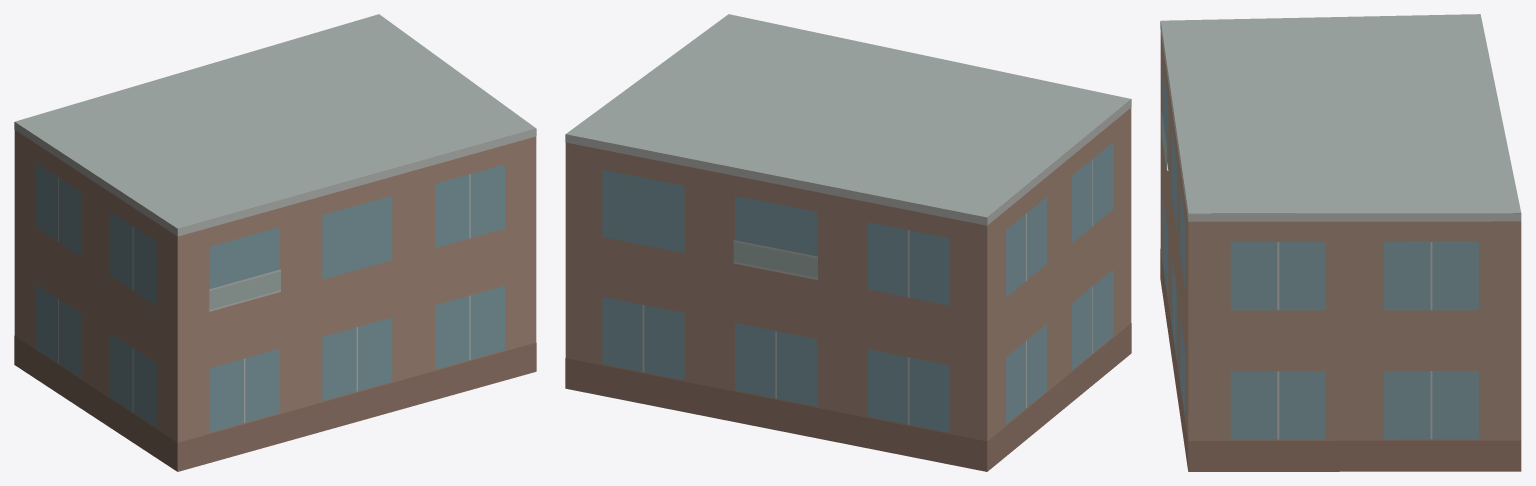
Rendered from survey-upis-33038335.glb.
The picture shows the model from 3 angles, left to right: view 1: azimuth 30°, elevation 25°; view 2: azimuth 150°, elevation 25°; view 3: azimuth 270°, elevation 25°; orthographic projection. The views are drawn at different scales.
Visible parts, largest first — view 1: survey-upis-33038335.tmp; view 2: survey-upis-33038335.tmp; view 3: survey-upis-33038335.tmp.
Part boxes in pixels (bbox=[...]): survey-upis-33038335.tmp: bbox=[14, 14, 536, 471]; survey-upis-33038335.tmp: bbox=[565, 14, 1131, 471]; survey-upis-33038335.tmp: bbox=[1160, 14, 1521, 471].
Size of the model in its own units: 12.51 by 7.55 by 9.56.
